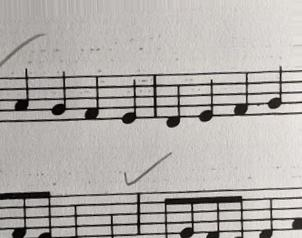A: (12, 67, 32, 126)
D: (164, 70, 185, 132)
E: (195, 69, 218, 126), (119, 71, 141, 128)
F: (229, 69, 252, 121), (80, 72, 102, 124)
G: (46, 69, 68, 127), (264, 65, 285, 119)
